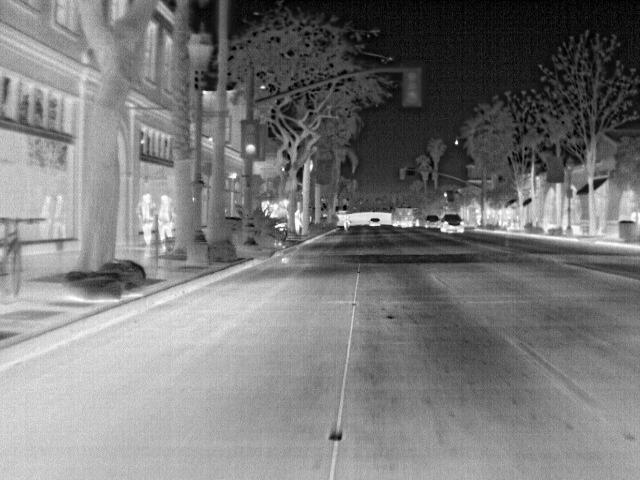car: (437, 214, 467, 236), (423, 212, 440, 230), (368, 214, 383, 228)
person: (133, 192, 159, 247), (160, 191, 176, 251), (292, 208, 304, 235)
